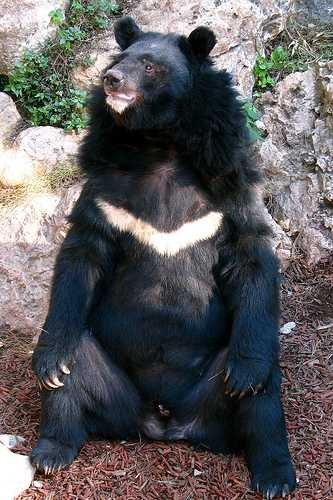bear: (96, 12, 224, 141), (99, 177, 227, 305)
